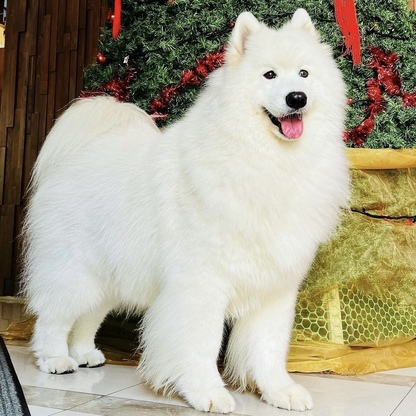samoyed: (14, 4, 362, 416)
